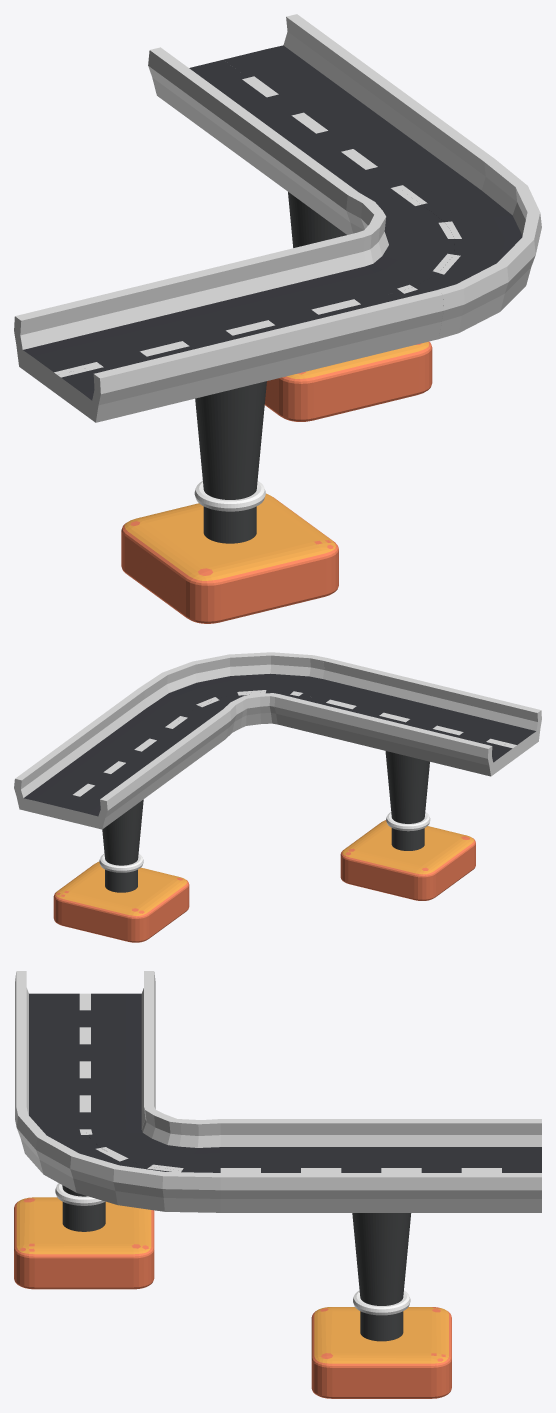
File: Road1.fbx
The picture shows the model from 3 angles, top to bottom: view 1: azimuth 30°, elevation 25°; view 2: azimuth 150°, elevation 25°; view 3: azimuth 270°, elevation 25°; orthographic projection. The views are drawn at different scales.
Visible parts, largest first — view 1: Cube.002, Cube, Cube.001, Cylinder, Cube.003, Cylinder.001; view 2: Cube.002, Cube, Cube.003, Cube.001, Cylinder, Cylinder.001; view 3: Cube.002, Cube, Cube.003, Cube.001, Cylinder.001, Cylinder.
Boxes of the visible parts, bbox=[...] form: Cube.002: bbox=[148, 14, 541, 338]; Cube: bbox=[14, 232, 443, 422]; Cube.001: bbox=[121, 493, 338, 623]; Cylinder: bbox=[194, 381, 266, 543]; Cube.003: bbox=[264, 341, 432, 421]; Cylinder.001: bbox=[288, 192, 346, 247]; Cube.002: bbox=[14, 652, 327, 829]; Cube: bbox=[274, 658, 541, 776]; Cube.003: bbox=[53, 861, 189, 942]; Cube.001: bbox=[340, 820, 475, 900]; Cylinder: bbox=[385, 751, 430, 850]; Cylinder.001: bbox=[99, 799, 143, 892]; Cube.002: bbox=[15, 1106, 541, 1212]; Cube: bbox=[15, 971, 155, 1129]; Cube.003: bbox=[311, 1307, 451, 1398]; Cube.001: bbox=[14, 1197, 154, 1289]; Cylinder.001: bbox=[352, 1213, 411, 1341]; Cylinder: bbox=[55, 1183, 105, 1231].
Size of the model in its own units: 2261 by 1144 by 2435.
